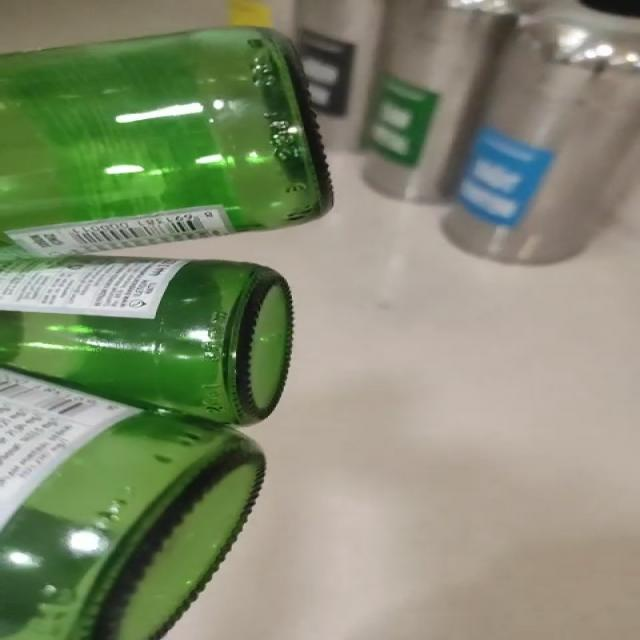glass: (1, 28, 331, 640)
